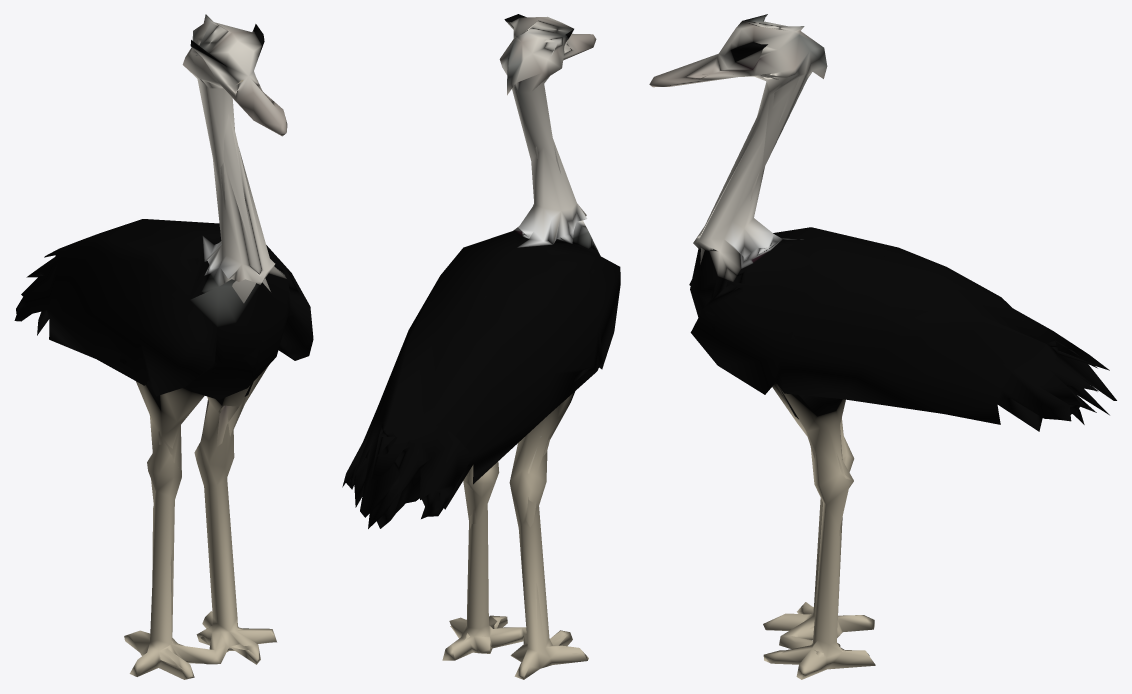
Rendered from gen3d-ostrich-lod1.glb.
3 views of the same model, side by side, from view 1: azimuth 30°, elevation 25°; view 2: azimuth 150°, elevation 25°; view 3: azimuth 270°, elevation 25° (orthographic). The views are drawn at different scales.
Visible parts, largest first — view 1: part_0; view 2: part_0; view 3: part_0.
Boxes of the visible parts, x1,y1,x2,y2 form: part_0: (14, 14, 313, 679); part_0: (342, 14, 620, 679); part_0: (649, 14, 1116, 679).
Bounding box in the file's own units: 0.2496 × 0.9983 × 0.6802.
